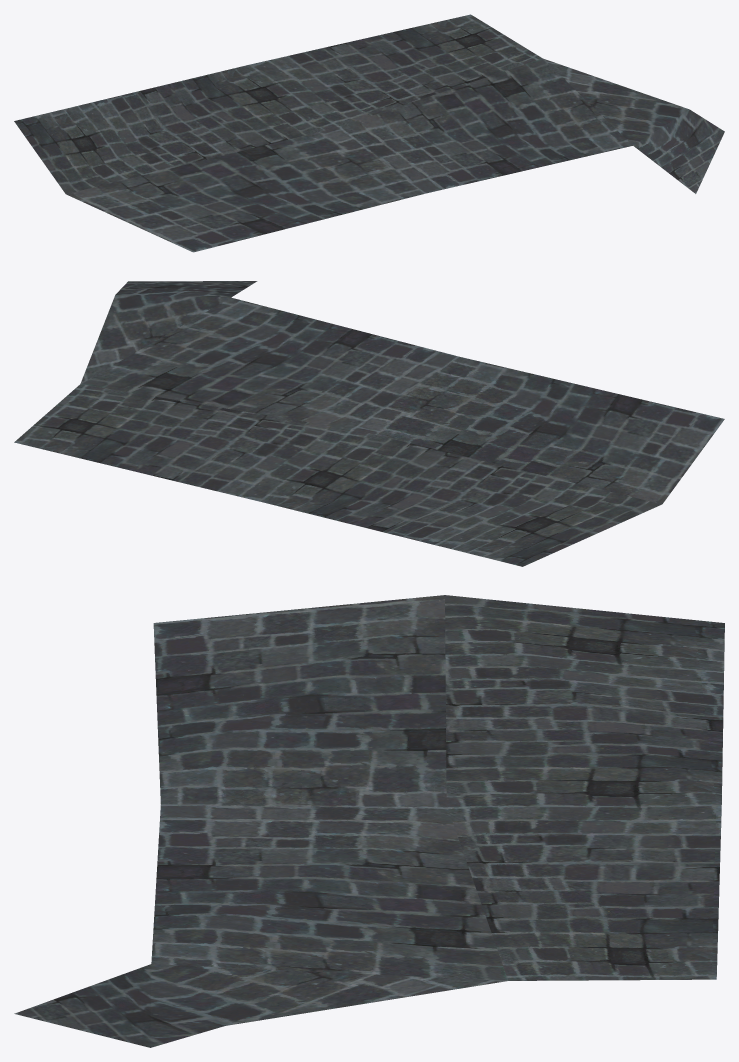
The model's file is blend_brick05.fbx.
The picture shows the model from 3 angles, top to bottom: view 1: azimuth 30°, elevation 25°; view 2: azimuth 150°, elevation 25°; view 3: azimuth 270°, elevation 25°; orthographic projection. The views are drawn at different scales.
Parts seen in each view (by area): view 1: new_stone/brick_blend_shadow; view 2: new_stone/brick_blend_shadow; view 3: new_stone/brick_blend_shadow.
Boxes of the visible parts, <box> form: new_stone/brick_blend_shadow: <box>14,14,724,252</box>; new_stone/brick_blend_shadow: <box>14,281,724,566</box>; new_stone/brick_blend_shadow: <box>14,595,724,1047</box>.
Size of the model in its own units: 10.5 by 0.3847 by 7.17.
